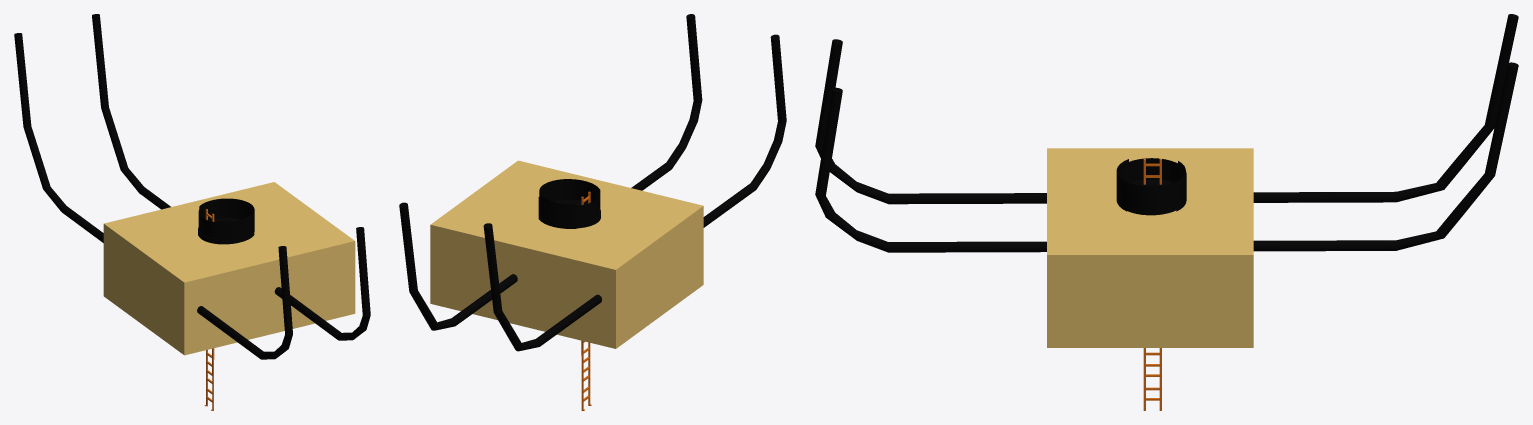
The model's file is escape ladder.fbx.
The picture shows the model from 3 angles, left to right: view 1: azimuth 30°, elevation 25°; view 2: azimuth 150°, elevation 25°; view 3: azimuth 270°, elevation 25°; orthographic projection. The views are drawn at different scales.
Visible parts, largest first — view 1: Cube.012, Cylinder.004, Cylinder.003, Cylinder.001, Cylinder; view 2: Cube.012, Cylinder.004, Cylinder.003, Cylinder, Cylinder.001; view 3: Cube.012, Cylinder.003, Cylinder.004, Cylinder, Cylinder.001.
Part boxes in pixels (x1=…): Cube.012: x1=103, y1=182, x2=355, y2=355; Cylinder.004: x1=14, y1=33, x2=292, y2=359; Cylinder.003: x1=92, y1=14, x2=370, y2=340; Cylinder.001: x1=199, y1=198, x2=254, y2=244; Cylinder: x1=198, y1=203, x2=254, y2=241; Cube.012: x1=430, y1=160, x2=703, y2=348; Cylinder.004: x1=483, y1=34, x2=786, y2=351; Cylinder.003: x1=399, y1=14, x2=702, y2=330; Cylinder: x1=538, y1=181, x2=599, y2=228; Cylinder.001: x1=539, y1=179, x2=600, y2=228; Cube.012: x1=1047, y1=148, x2=1253, y2=347; Cylinder.003: x1=815, y1=62, x2=1518, y2=252; Cylinder.004: x1=815, y1=14, x2=1518, y2=204; Cylinder: x1=1117, y1=158, x2=1186, y2=211; Cylinder.001: x1=1116, y1=159, x2=1185, y2=215.
Bounding box in the file's own units: 4950 × 7875 × 13812.
